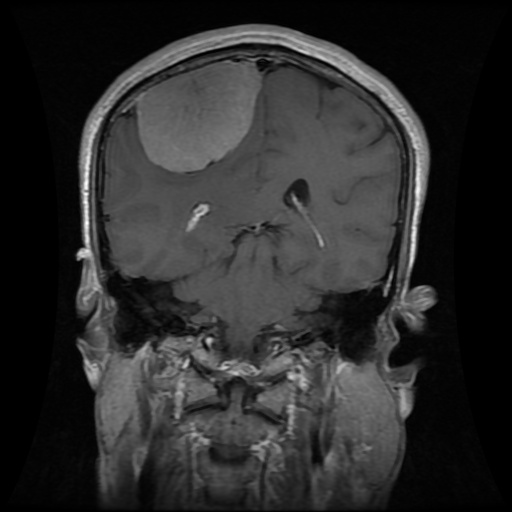meningioma: (136, 59, 262, 173)
